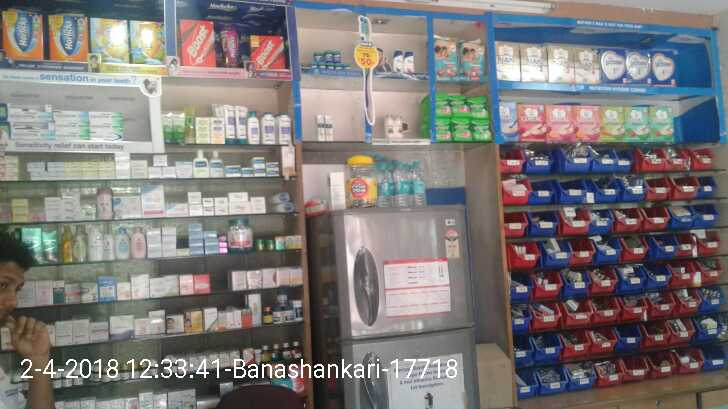vicks: (308, 48, 347, 73)
